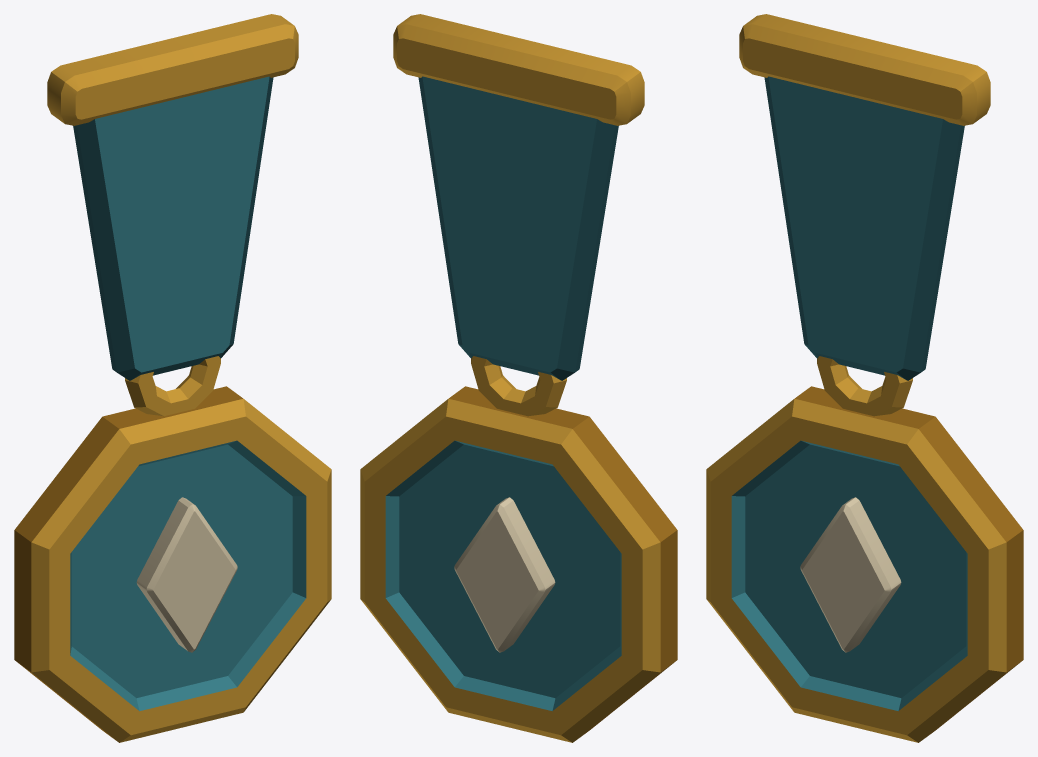
The model's file is Medal_21.glb.
3 views of the same model, side by side, from view 1: azimuth 30°, elevation 25°; view 2: azimuth 150°, elevation 25°; view 3: azimuth 330°, elevation 25° (orthographic).
Parts seen in each view (by area): view 1: Medal_21; view 2: Medal_21; view 3: Medal_21.
Boxes of the visible parts, x1=… form: Medal_21: x1=14, y1=14, x2=331, y2=742; Medal_21: x1=360, y1=14, x2=677, y2=742; Medal_21: x1=706, y1=14, x2=1023, y2=742.
Bounding box in the file's own units: 1.12 × 2.42 × 0.28.
